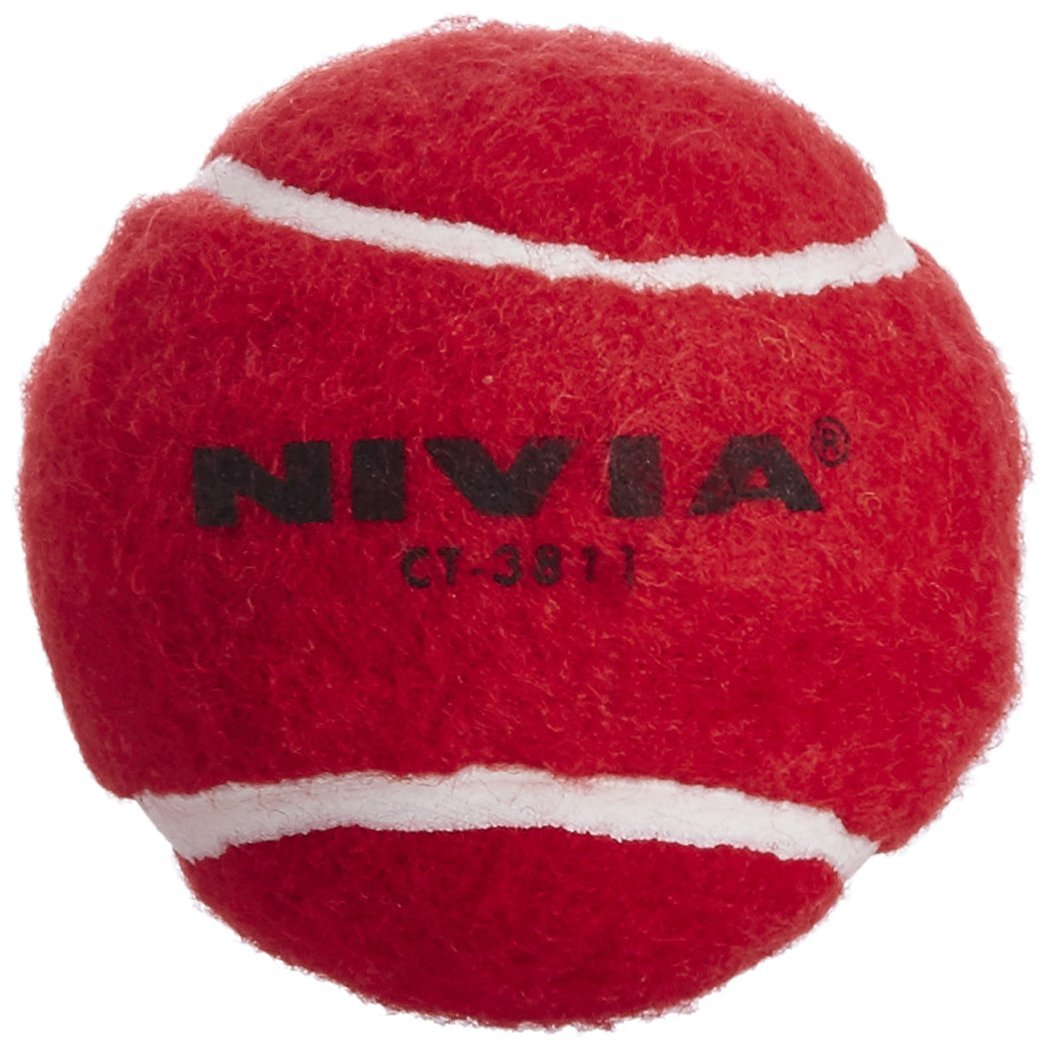red ball: (16, 19, 1036, 1027)
